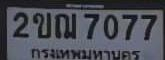0: (103, 13, 117, 39)
2: (12, 10, 27, 36)
7: (121, 12, 137, 38), (140, 14, 156, 39), (83, 13, 98, 38)
A02: (32, 12, 50, 38)
A12: (54, 12, 76, 38)
BKK: (29, 46, 142, 60)
